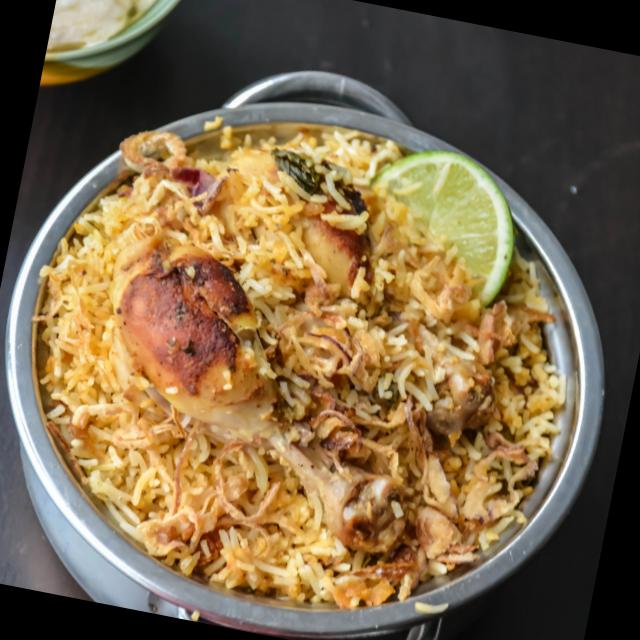Biryani: (0, 77, 611, 640)
